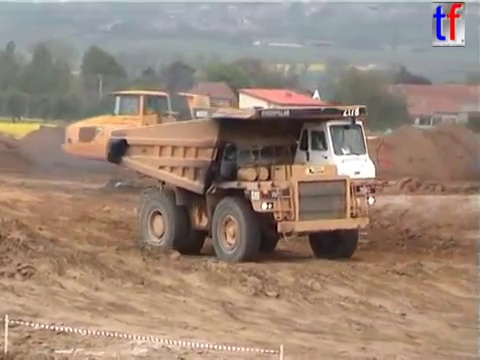truck: (102, 102, 395, 264), (58, 86, 363, 185)
